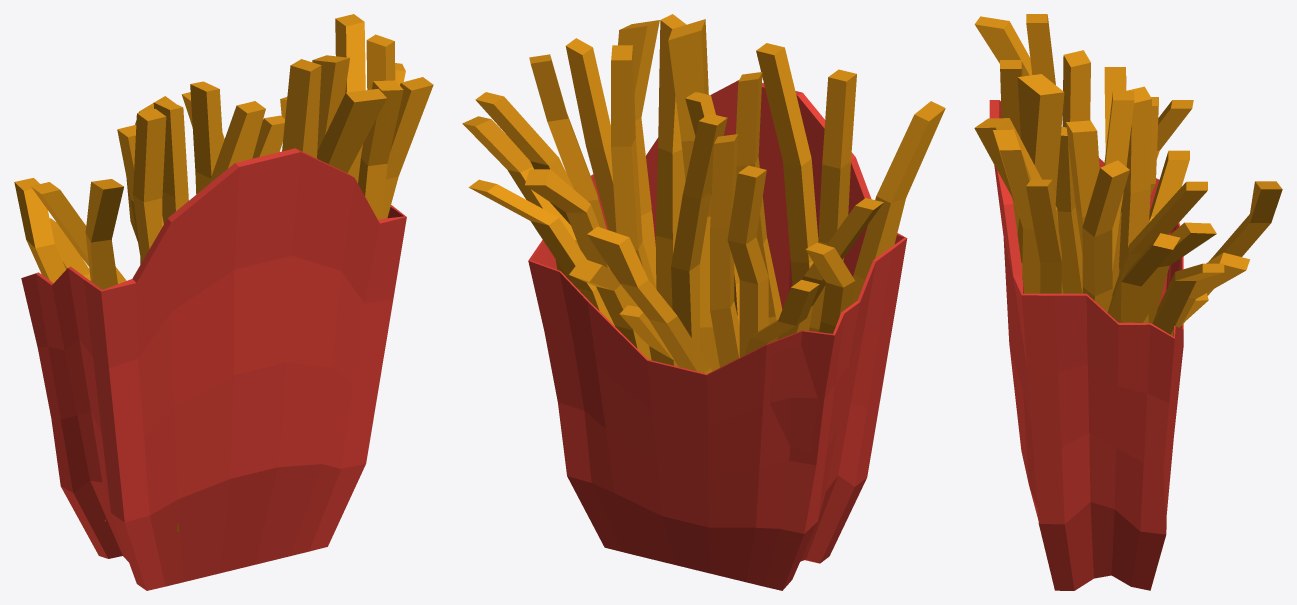
The model's file is 薯条盒子.fbx.
3 renders of one model, left to right at view 1: azimuth 30°, elevation 25°; view 2: azimuth 150°, elevation 25°; view 3: azimuth 270°, elevation 25°, orthographic.
Parts seen in each view (by area): view 1: 立方体; view 2: 立方体; view 3: 立方体.
Boxes of the visible parts, x1=… form: 立方体: x1=14, y1=14, x2=433, y2=590; 立方体: x1=462, y1=14, x2=945, y2=590; 立方体: x1=974, y1=14, x2=1282, y2=590.
Size of the model in its own units: 251 by 302 by 170.
